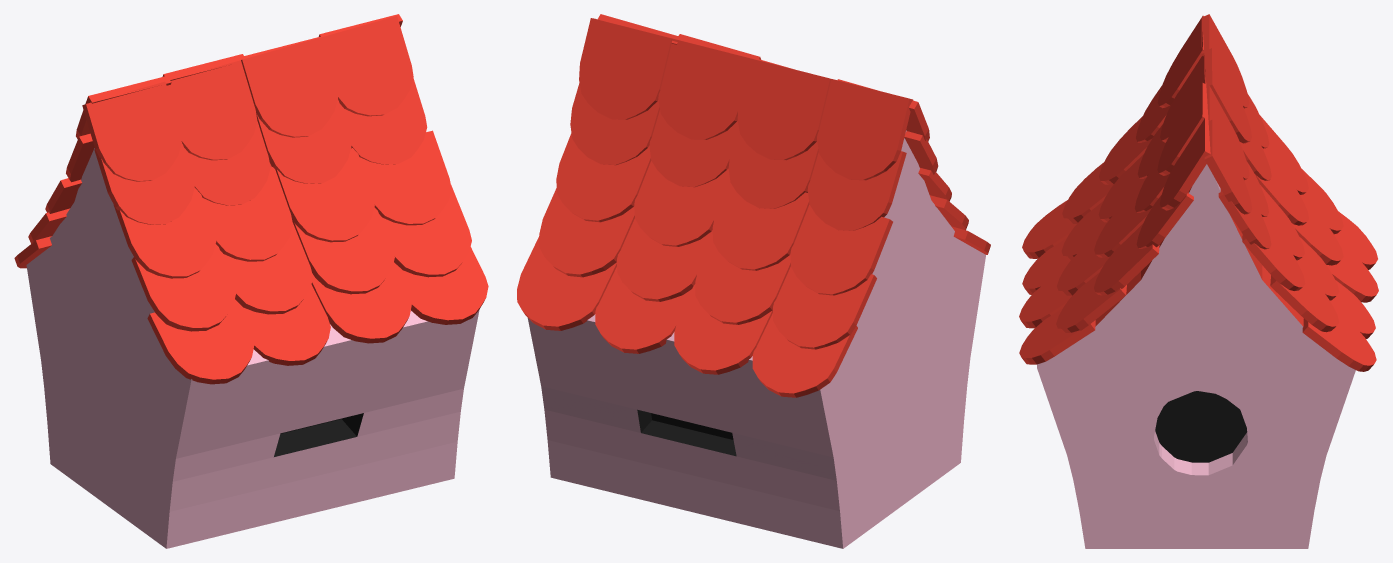
The model's file is scene_rRZEe3KyVS.glb.
3 views of the same model, side by side, from view 1: azimuth 30°, elevation 25°; view 2: azimuth 150°, elevation 25°; view 3: azimuth 270°, elevation 25° (orthographic). The views are drawn at different scales.
Visible parts, largest first — view 1: group1644922446, group1267132533, group523291338, group1237239514, group2017416410, group1143590556, group237740808, group524518127, group2069091998, group61402183, group1448090274, group1376504471 (+15 smaller); view 2: group1644922446, group30455806, group518334273, group394417821, group1614844125, group216432254, group2046839900, group973759995, group760873485, group220520178, group1682062602, group1768850218 (+13 smaller); view 3: group1644922446, group1682062602, group1237239514, group237740808, group394417821, group191207040, group1768850218, group1336436177, group518334273, group523291338, group760873485, group1267132533 (+29 smaller).
Boxes of the visible parts, x1,y1,x2,y2 form: group1644922446: [26, 148, 479, 548]; group1267132533: [82, 81, 181, 181]; group523291338: [241, 37, 337, 137]; group1237239514: [321, 16, 413, 116]; group2017416410: [167, 60, 257, 160]; group1143590556: [275, 148, 374, 242]; group237740808: [359, 130, 451, 225]; group524518127: [113, 188, 216, 278]; group2069091998: [131, 244, 235, 331]; group61402183: [147, 302, 254, 384]; group1448090274: [202, 167, 292, 261]; group1376504471: [292, 207, 394, 294]; group1644922446: [527, 130, 985, 548]; group30455806: [817, 79, 913, 180]; group518334273: [737, 58, 831, 160]; group394417821: [579, 18, 672, 119]; group1614844125: [658, 38, 749, 139]; group216432254: [790, 204, 892, 295]; group2046839900: [712, 177, 809, 270]; group973759995: [634, 161, 729, 246]; group760873485: [556, 133, 651, 222]; group220520178: [773, 266, 876, 349]; group1682062602: [517, 236, 616, 330]; group1768850218: [539, 188, 634, 277]; group1644922446: [1037, 164, 1355, 548]; group1682062602: [1302, 312, 1376, 371]; group1237239514: [1159, 118, 1210, 210]; group237740808: [1094, 224, 1159, 295]; group394417821: [1204, 120, 1252, 214]; group191207040: [1056, 272, 1126, 332]; group1768850218: [1270, 268, 1338, 332]; group1336436177: [1019, 308, 1095, 364]; group518334273: [1204, 48, 1251, 143]; group523291338: [1157, 82, 1208, 175]; group760873485: [1242, 218, 1305, 290]; group1267132533: [1157, 15, 1203, 108].
Bounding box in the file's own units: 0.48 × 0.5922 × 0.4828.
